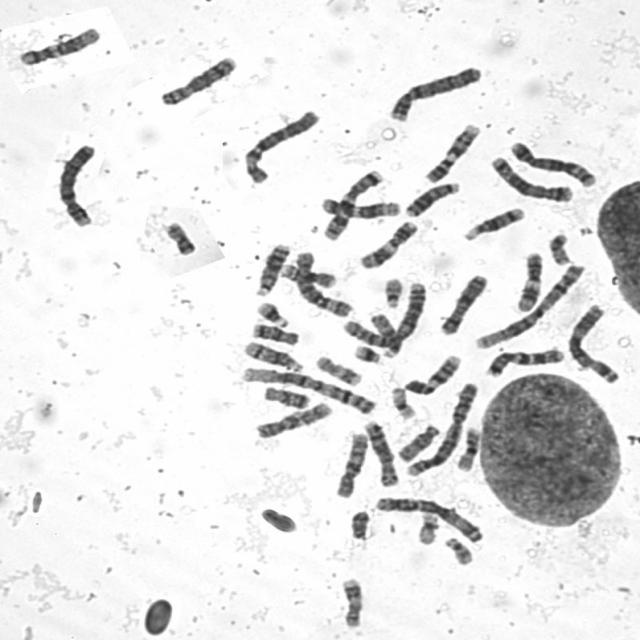A1: (470, 259, 588, 350), (237, 363, 380, 417)
A2: (401, 378, 482, 476), (339, 276, 430, 348)
A3: (369, 492, 485, 544), (562, 299, 622, 385)
B4: (383, 60, 484, 123), (52, 138, 99, 229)
B5: (504, 135, 599, 188), (485, 151, 575, 203)
C10: (250, 398, 335, 440), (330, 427, 370, 500)
C11: (354, 216, 420, 270), (511, 247, 545, 313)
C12: (14, 22, 103, 67), (315, 192, 404, 220)
C6: (238, 104, 322, 185), (288, 246, 354, 318)
C7: (318, 164, 387, 241), (481, 342, 566, 378)
C8: (155, 51, 239, 107), (358, 415, 401, 488)
C9: (419, 118, 482, 184), (400, 349, 464, 396)
D13: (400, 176, 462, 218), (250, 238, 292, 296)
D14: (458, 202, 527, 242), (239, 336, 305, 373)
D15: (393, 419, 443, 463), (364, 307, 403, 359)
E16: (276, 259, 338, 289), (451, 422, 482, 473)
E17: (310, 351, 364, 386), (336, 572, 366, 630)
E18: (247, 318, 301, 347), (258, 382, 313, 410)
F19: (386, 382, 417, 420), (412, 507, 442, 546)
F20: (158, 216, 198, 256), (544, 228, 574, 267)
G21: (251, 296, 291, 328), (348, 340, 384, 365)
G22: (440, 532, 475, 566), (379, 272, 406, 310)
X: (434, 269, 491, 336)
Y: (345, 506, 371, 540)
